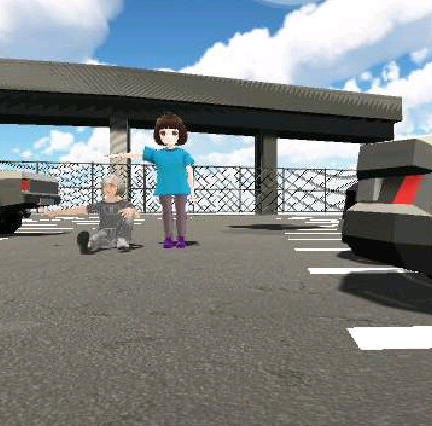doubleP_left: (38, 110, 197, 256)
